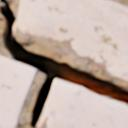brick: (16, 0, 127, 81), (41, 79, 127, 127), (0, 56, 35, 127)
crack: (0, 0, 127, 127)
